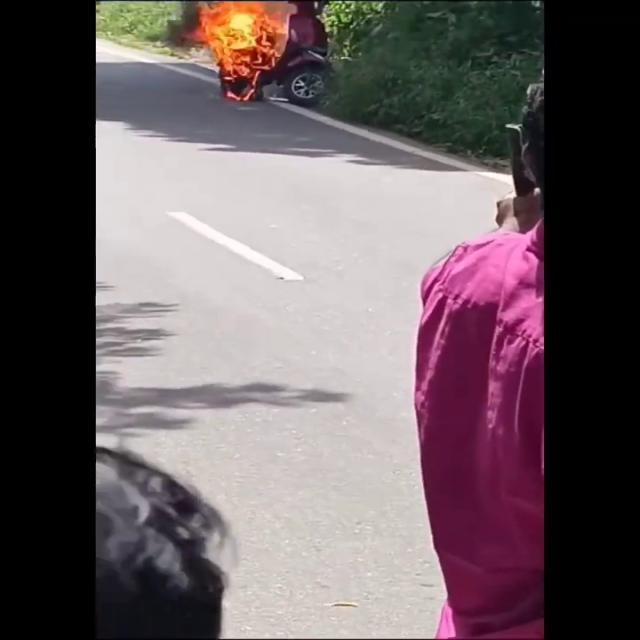Fire: (194, 0, 291, 95)
